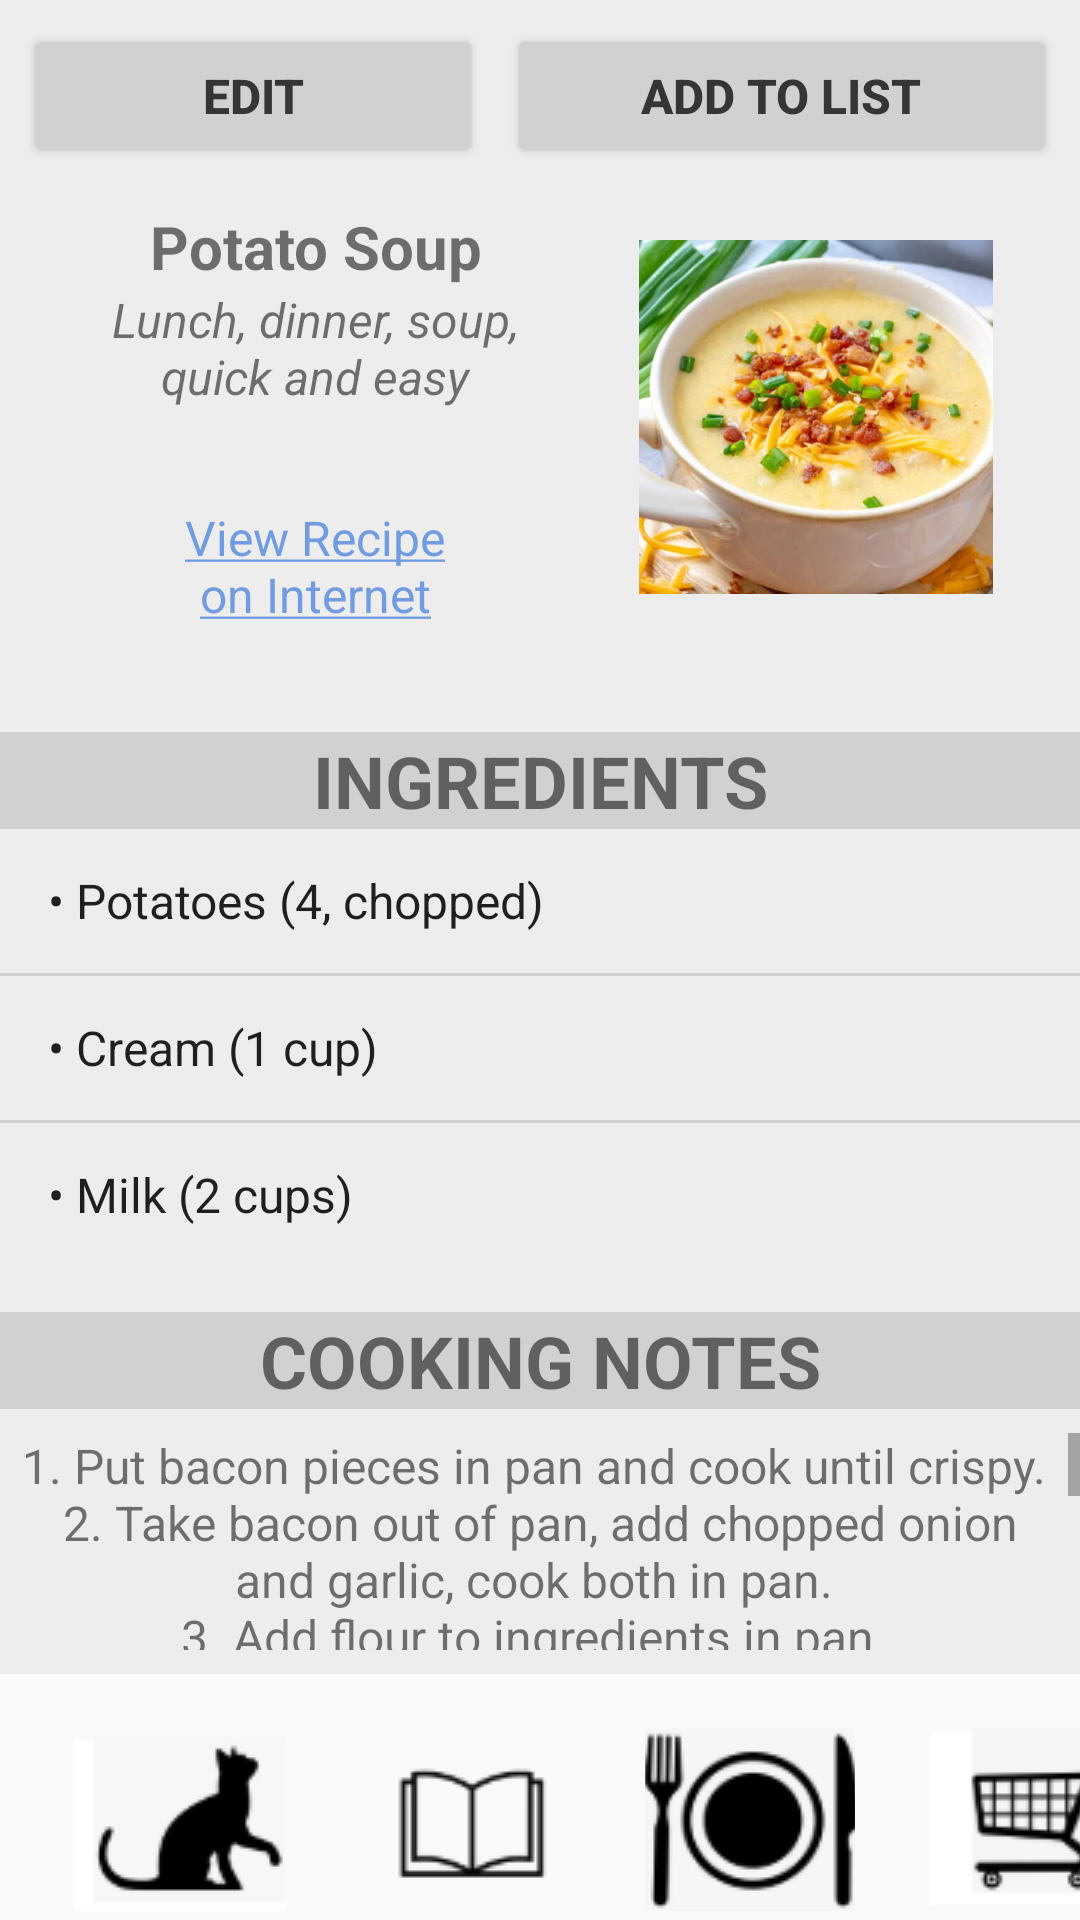

Icon bounding boxes for this 1080px×1920px phone screenshot, format detection(x1, y1, x2, y2):
cat: detection(96, 1745, 283, 1891)
meal: detection(645, 1733, 855, 1908)
